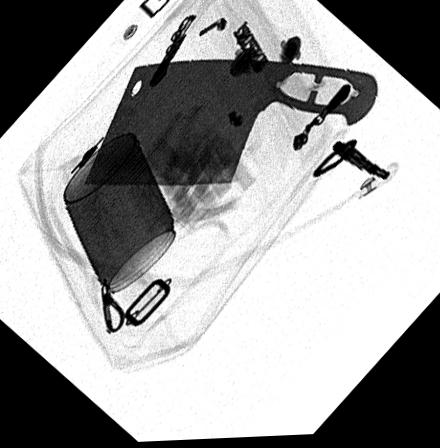Knife: (81, 60, 381, 188)
